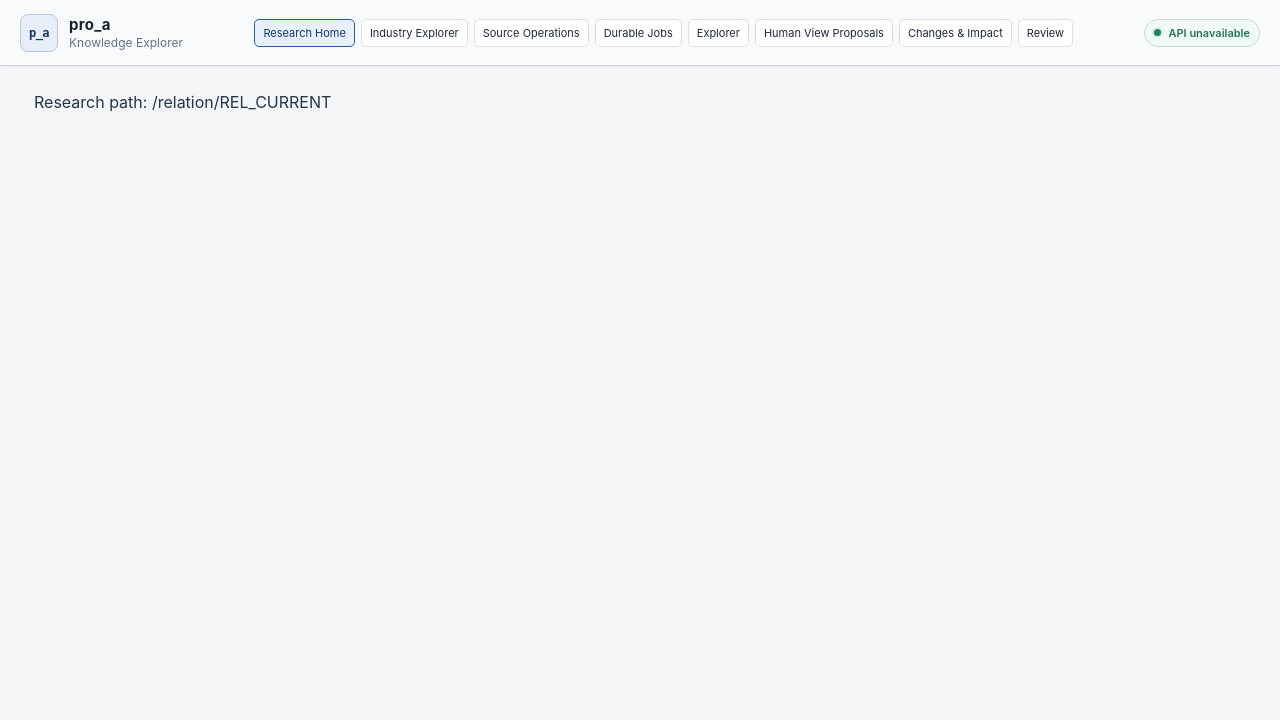
App error boundary › returns a research detail route to Research Home from the header
The image size is (1280, 720).
Click the button "Research Home" at [305, 32], box [254,18,355,46]
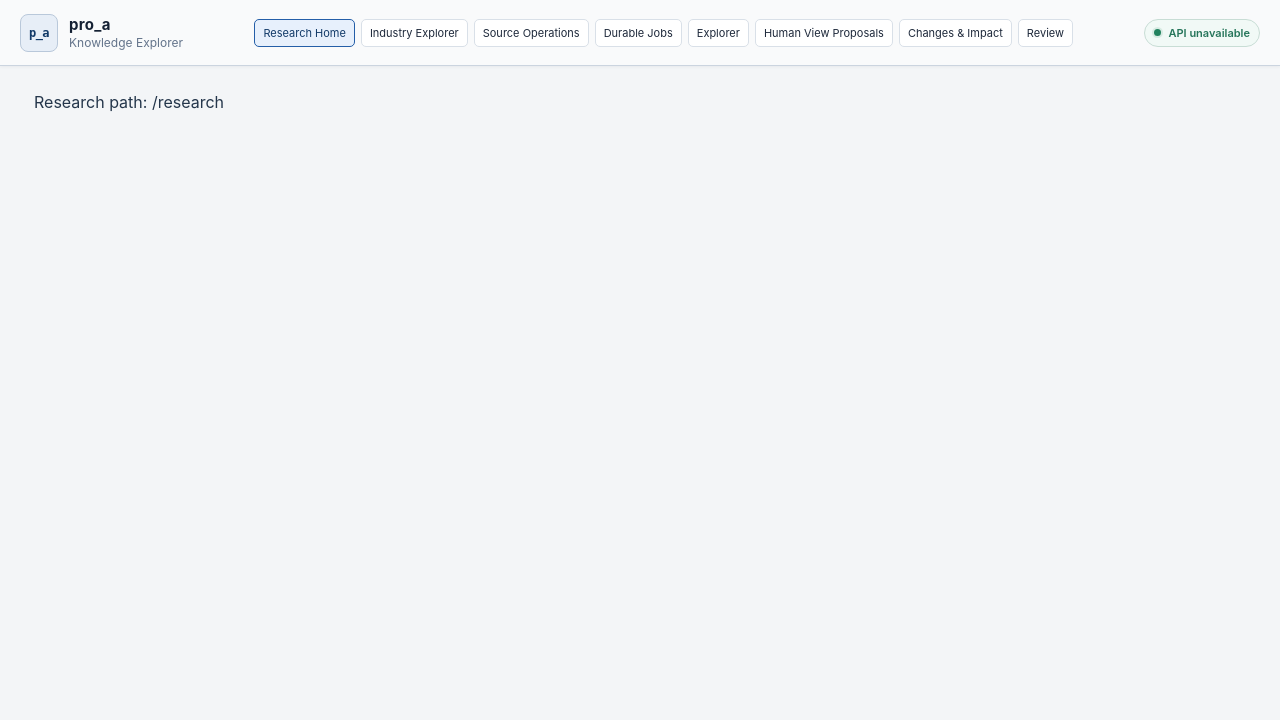
expect the text "Research path: /research" is shown: met
